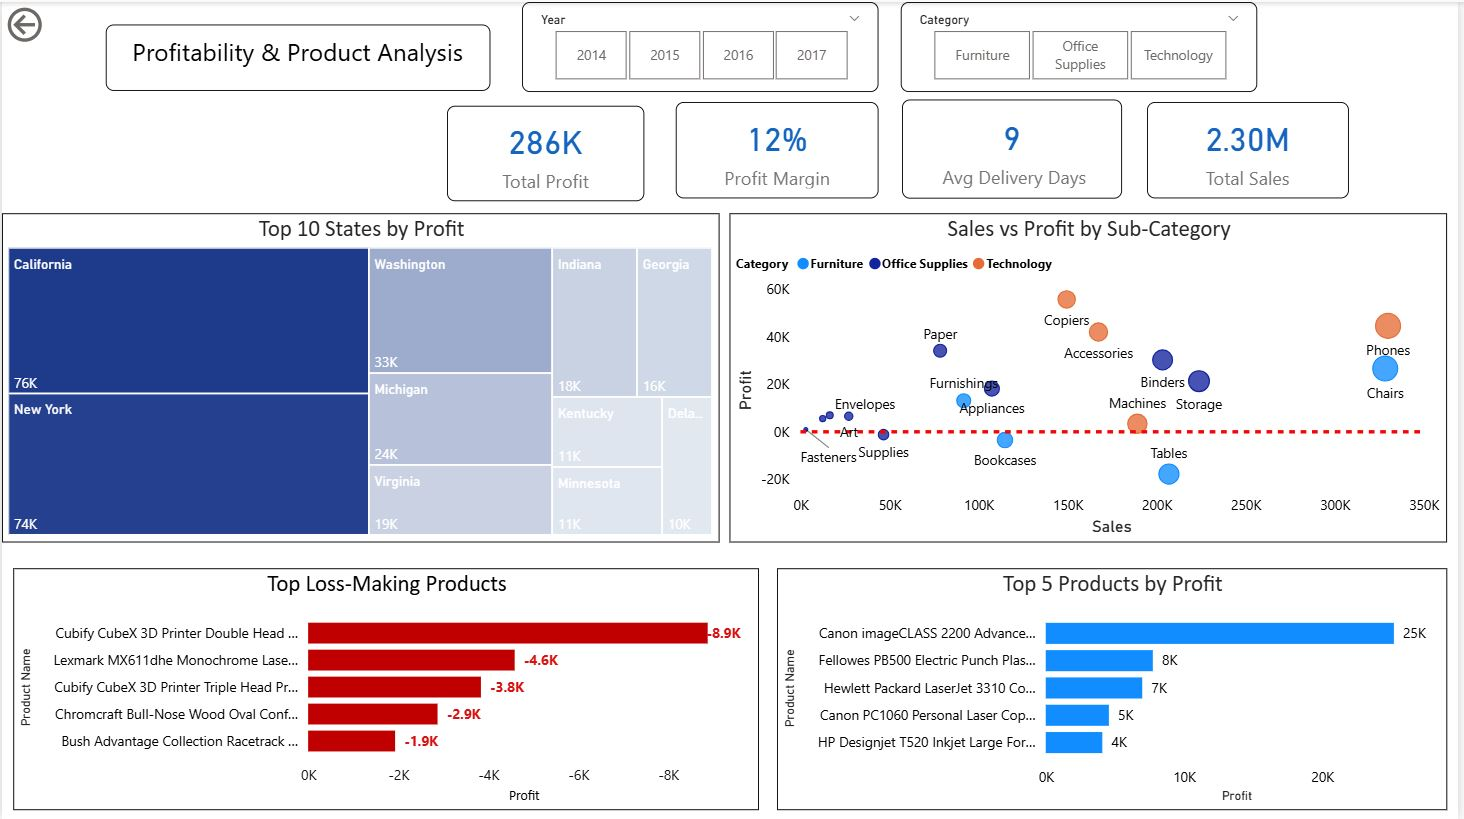

Layout of this report page (visuals, bound fields, positions):
{"tool":"powerbi","page":{"name":"Profitability Analysis","canvas":[1280,720],"ordinal":1},"visuals":[{"type":"card","fields":{"Values":["measure.PROFIT MARGIN"]},"box":[592.5,87.5,178.8,85],"z":0},{"type":"card","fields":{"Values":["Sum(superstore.Profit)"]},"box":[391.2,91.2,173.8,83.8],"z":1000},{"type":"card","fields":{"Values":["Avg(superstore.Avg Delivery day)"]},"box":[791.2,86.2,193.8,87.5],"z":2000},{"type":"card","fields":{"Values":["measure.TOTAL SALES"]},"box":[1007.5,87.5,177.5,85],"z":3000},{"type":"clusteredBarChart","title":"Top Loss-Making Products","fields":{"Category":["superstore.Product Name"],"Y":["Sum(superstore.Profit)"]},"box":[9.5,497.6,656,213.1],"z":4000},{"type":"clusteredBarChart","title":"Top 5 Products by Profit","fields":{"Category":["superstore.Product Name"],"Y":["Sum(superstore.Profit)"]},"box":[682.1,497.6,589.3,213.1],"z":5000},{"type":"textbox","box":[91.7,20.2,338.1,58.3],"z":6000},{"type":"slicer","fields":{"Values":["Date Table.Year"]},"box":[457,0,314,79.1],"z":7000},{"type":"slicer","fields":{"Values":["superstore.Category"]},"box":[790.7,0,314,79.1],"z":8000},{"type":"scatterChart","title":"Sales vs Profit by Sub-Category ","fields":{"X":["Sum(superstore.Sales)"],"Y":["Sum(superstore.Profit)"],"Size":["Sum(superstore.Sales)"],"Category":["superstore.Sub-Category"],"Series":["superstore.Category"]},"box":[640.5,185.7,631,289.3],"z":9000},{"type":"actionButton","box":[0,0,100,40],"z":10000},{"type":"treemap","title":"Top 10 States by Profit","fields":{"Group":["superstore.State"],"Values":["Sum(superstore.Profit)"]},"box":[0,185.7,631,289.3],"z":11000}]}

Visuals, with their boxes in screenshot pixels (x1, y1, x2, y2), scaled from the page's 1280x720 canvas onto the 1464x819 screenshot:
card - measure.PROFIT MARGIN: BBox(678, 100, 882, 196)
card - Sum(superstore.Profit): BBox(447, 104, 646, 199)
card - Avg(superstore.Avg Delivery day): BBox(905, 98, 1127, 198)
card - measure.TOTAL SALES: BBox(1152, 100, 1355, 196)
"Top Loss-Making Products" clusteredBarChart: BBox(11, 566, 761, 808)
"Top 5 Products by Profit" clusteredBarChart: BBox(780, 566, 1454, 808)
textbox: BBox(105, 23, 492, 89)
slicer - Date Table.Year: BBox(523, 0, 882, 90)
slicer - superstore.Category: BBox(904, 0, 1264, 90)
"Sales vs Profit by Sub-Category " scatterChart: BBox(733, 211, 1454, 540)
actionButton: BBox(0, 0, 114, 46)
"Top 10 States by Profit" treemap: BBox(0, 211, 722, 540)
